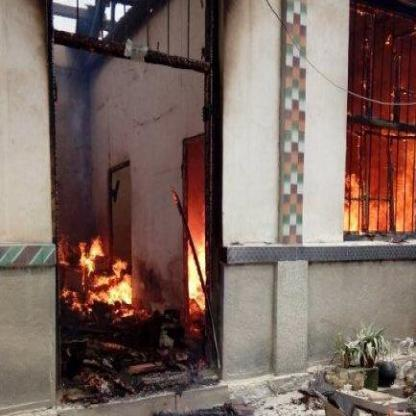fire: (393, 139, 415, 229), (344, 174, 362, 229), (368, 199, 388, 231), (115, 274, 132, 305), (186, 249, 196, 296), (196, 235, 206, 276), (87, 234, 103, 256), (97, 288, 115, 303), (94, 274, 112, 287), (194, 284, 204, 306), (84, 258, 96, 276), (112, 259, 124, 275), (78, 240, 84, 264), (86, 288, 97, 300)
